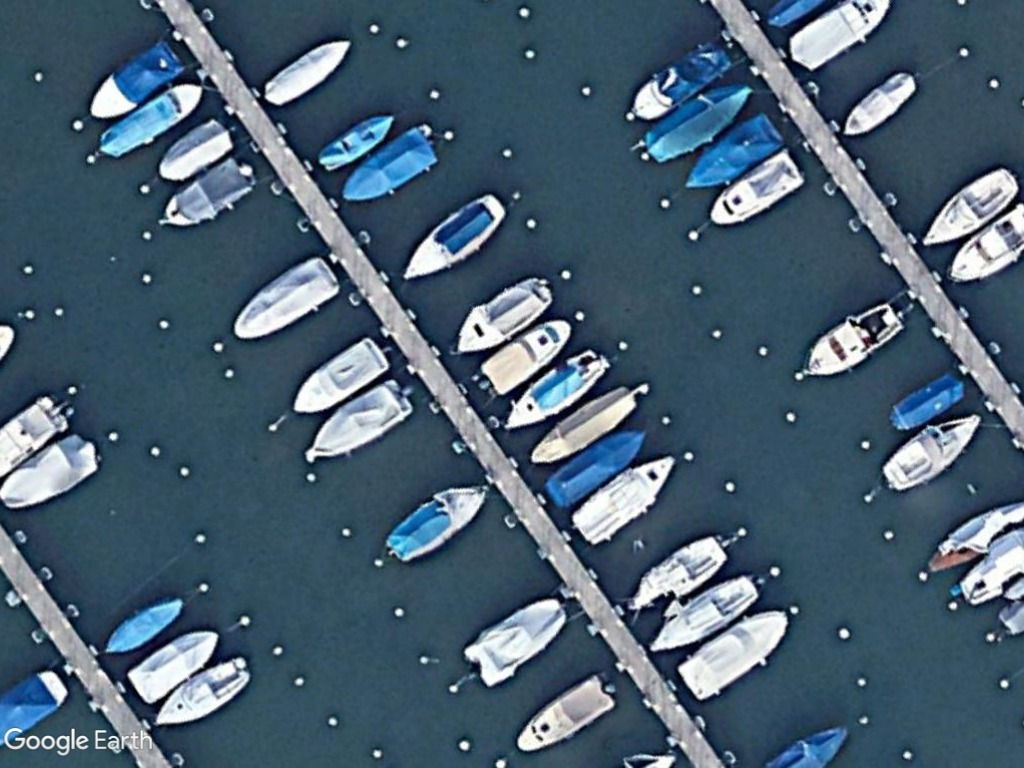boat: (675, 609, 797, 706), (569, 451, 681, 544), (644, 575, 765, 658), (464, 595, 568, 690), (400, 194, 510, 283), (230, 256, 343, 342), (527, 385, 640, 470), (306, 376, 413, 465), (643, 83, 754, 167), (620, 535, 730, 618), (499, 349, 608, 431), (543, 426, 650, 509), (453, 273, 558, 357), (512, 675, 618, 757), (881, 408, 983, 493), (95, 83, 207, 160), (287, 331, 389, 415), (384, 483, 488, 564), (920, 166, 1020, 250), (802, 300, 907, 380), (80, 42, 181, 124), (624, 46, 731, 123), (336, 125, 438, 204), (682, 115, 786, 191), (126, 624, 220, 708), (0, 431, 97, 512), (479, 319, 575, 397), (707, 151, 805, 227), (259, 35, 358, 109), (151, 655, 248, 730), (161, 155, 251, 232), (841, 69, 922, 141), (315, 107, 397, 173), (157, 118, 234, 187), (103, 594, 188, 655)
